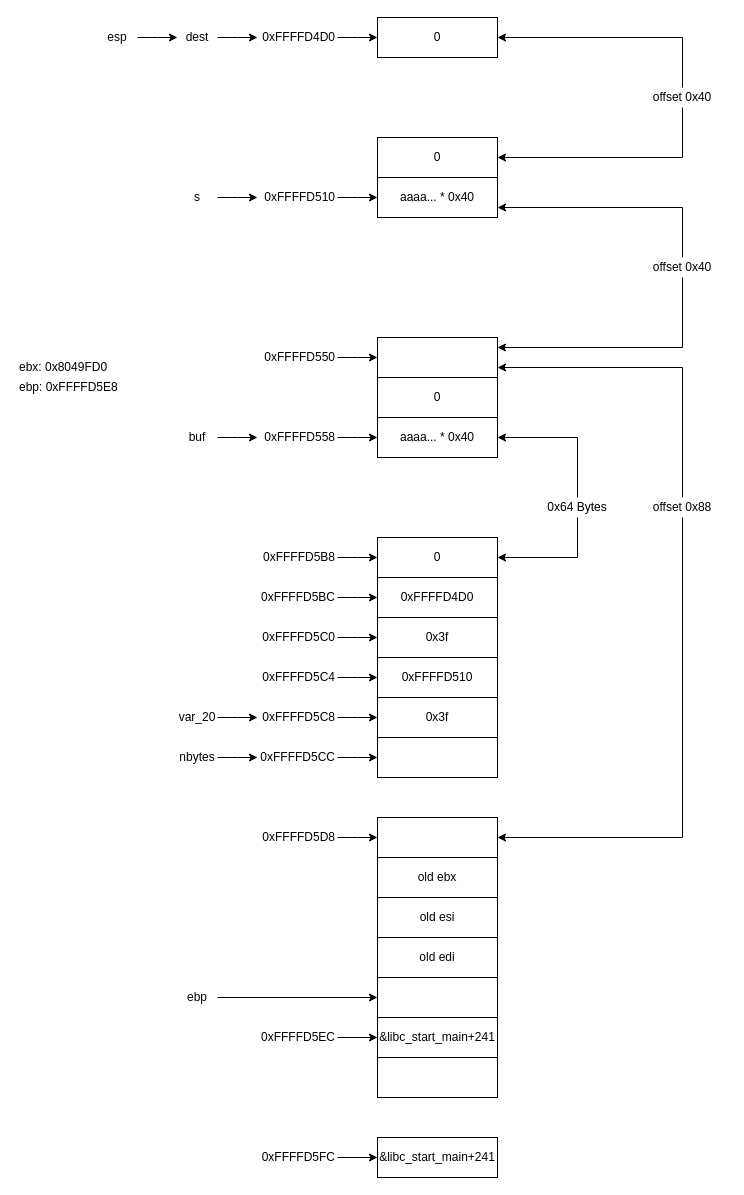
Image size: 744x1195. Some labels were removed from this diagram. The centre of each missing label's shape, as x and y in pixels:
"0 (old ebp)" goes at (437,997).
"0x40" goes at (437,757).
"aaaa" goes at (437,357).
"old ecx" goes at (437,837).
